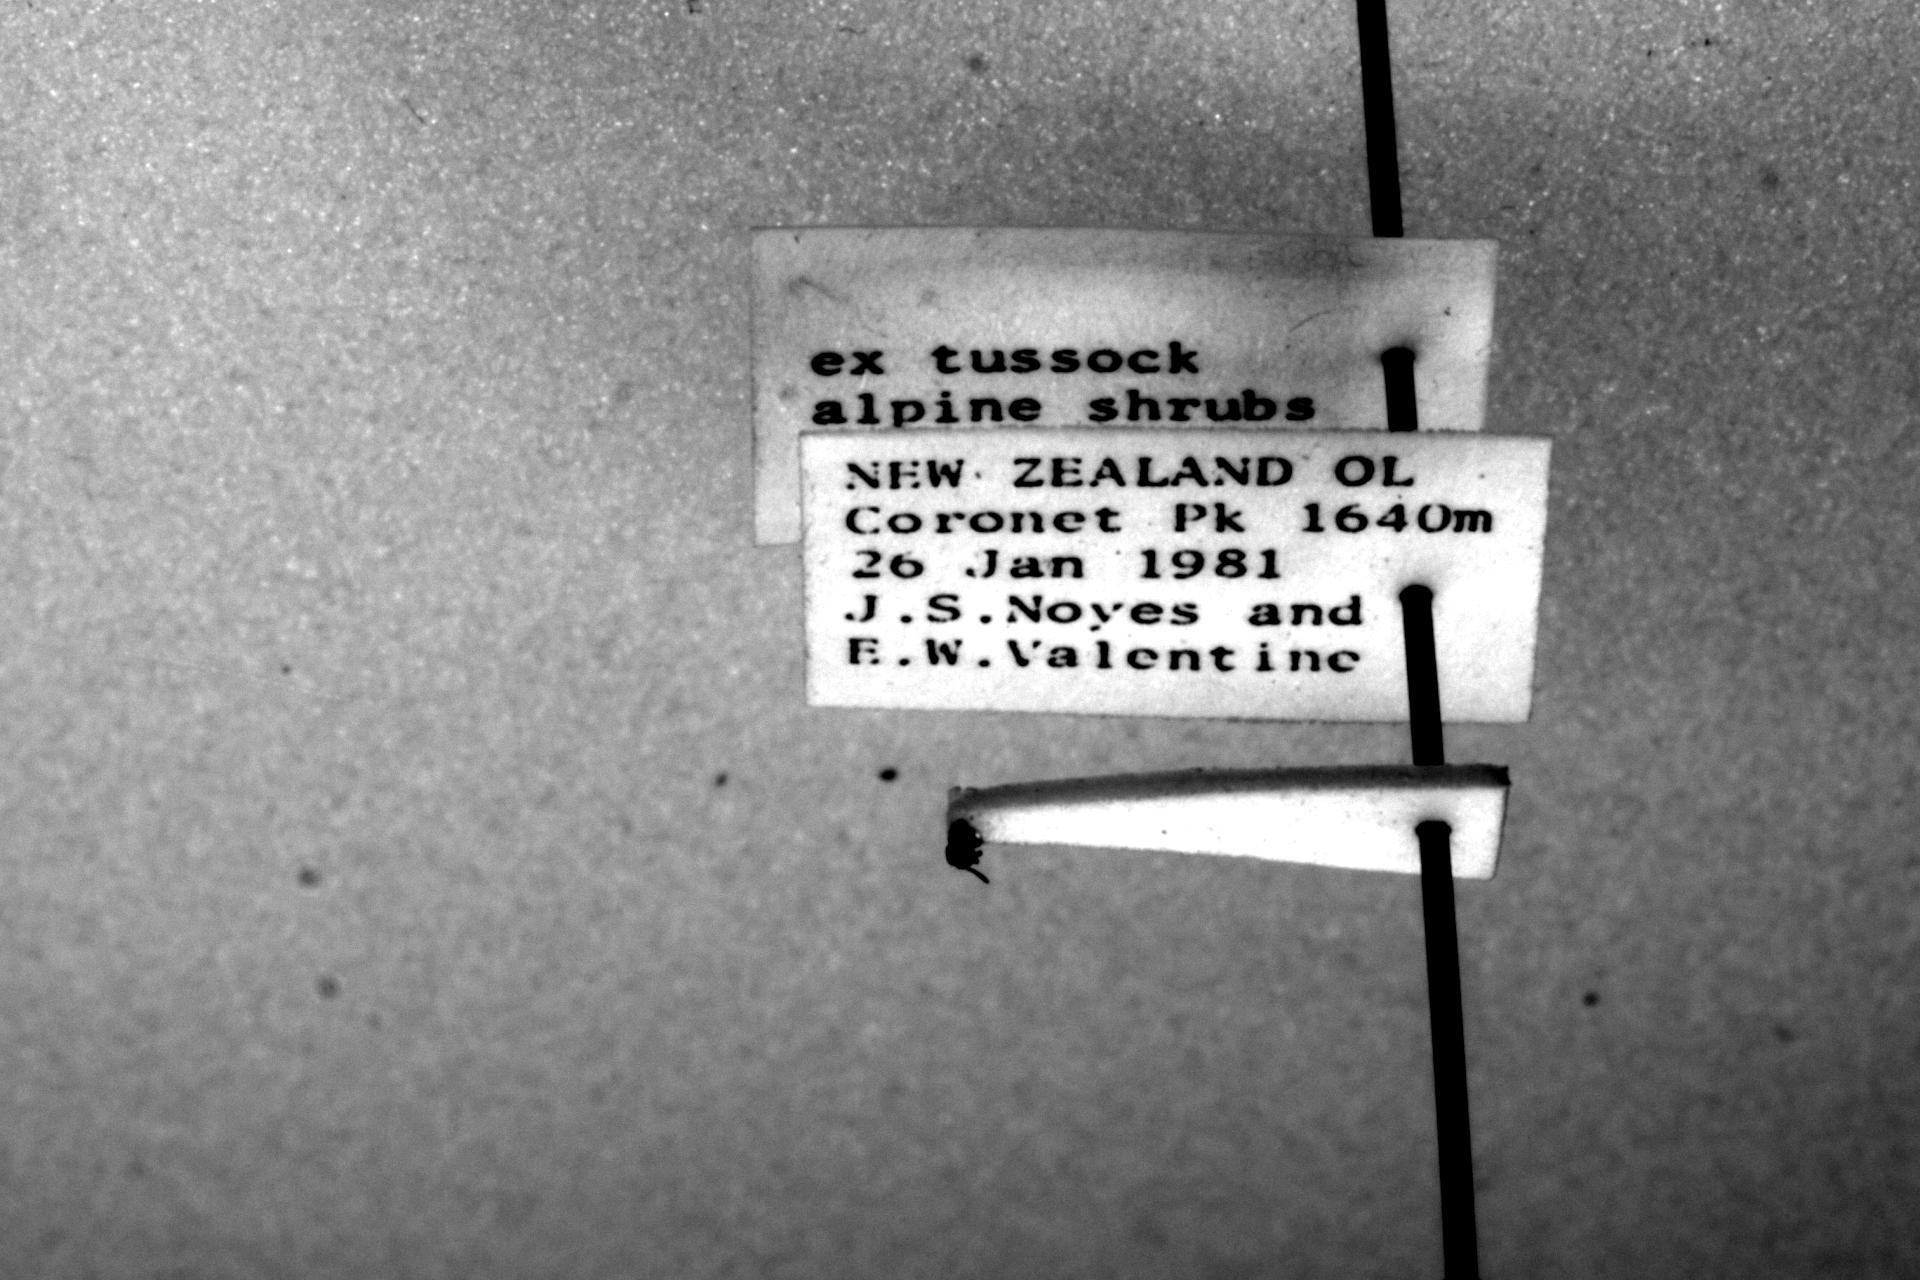typed_label: (750, 229, 1500, 544), (799, 431, 1549, 724)
